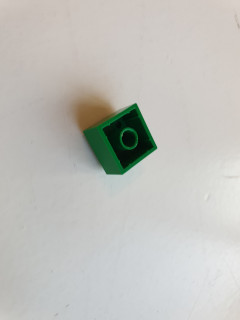2x2 green: (82, 102, 158, 176)
